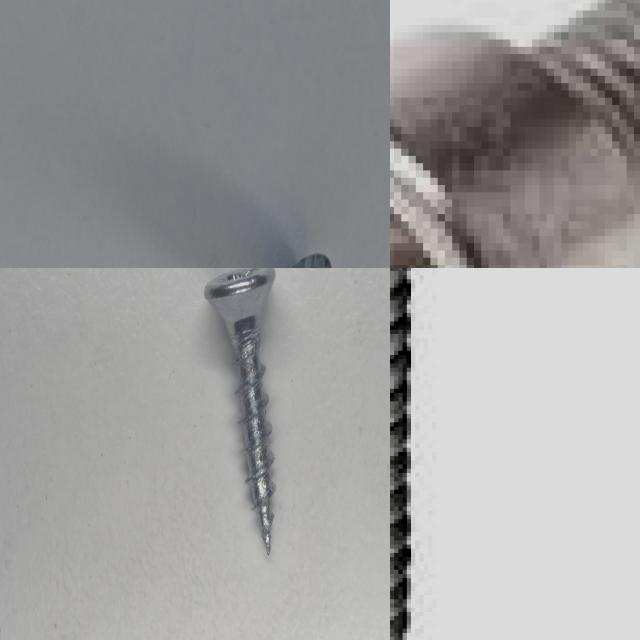Screw: (390, 0, 640, 268), (204, 268, 276, 552)
